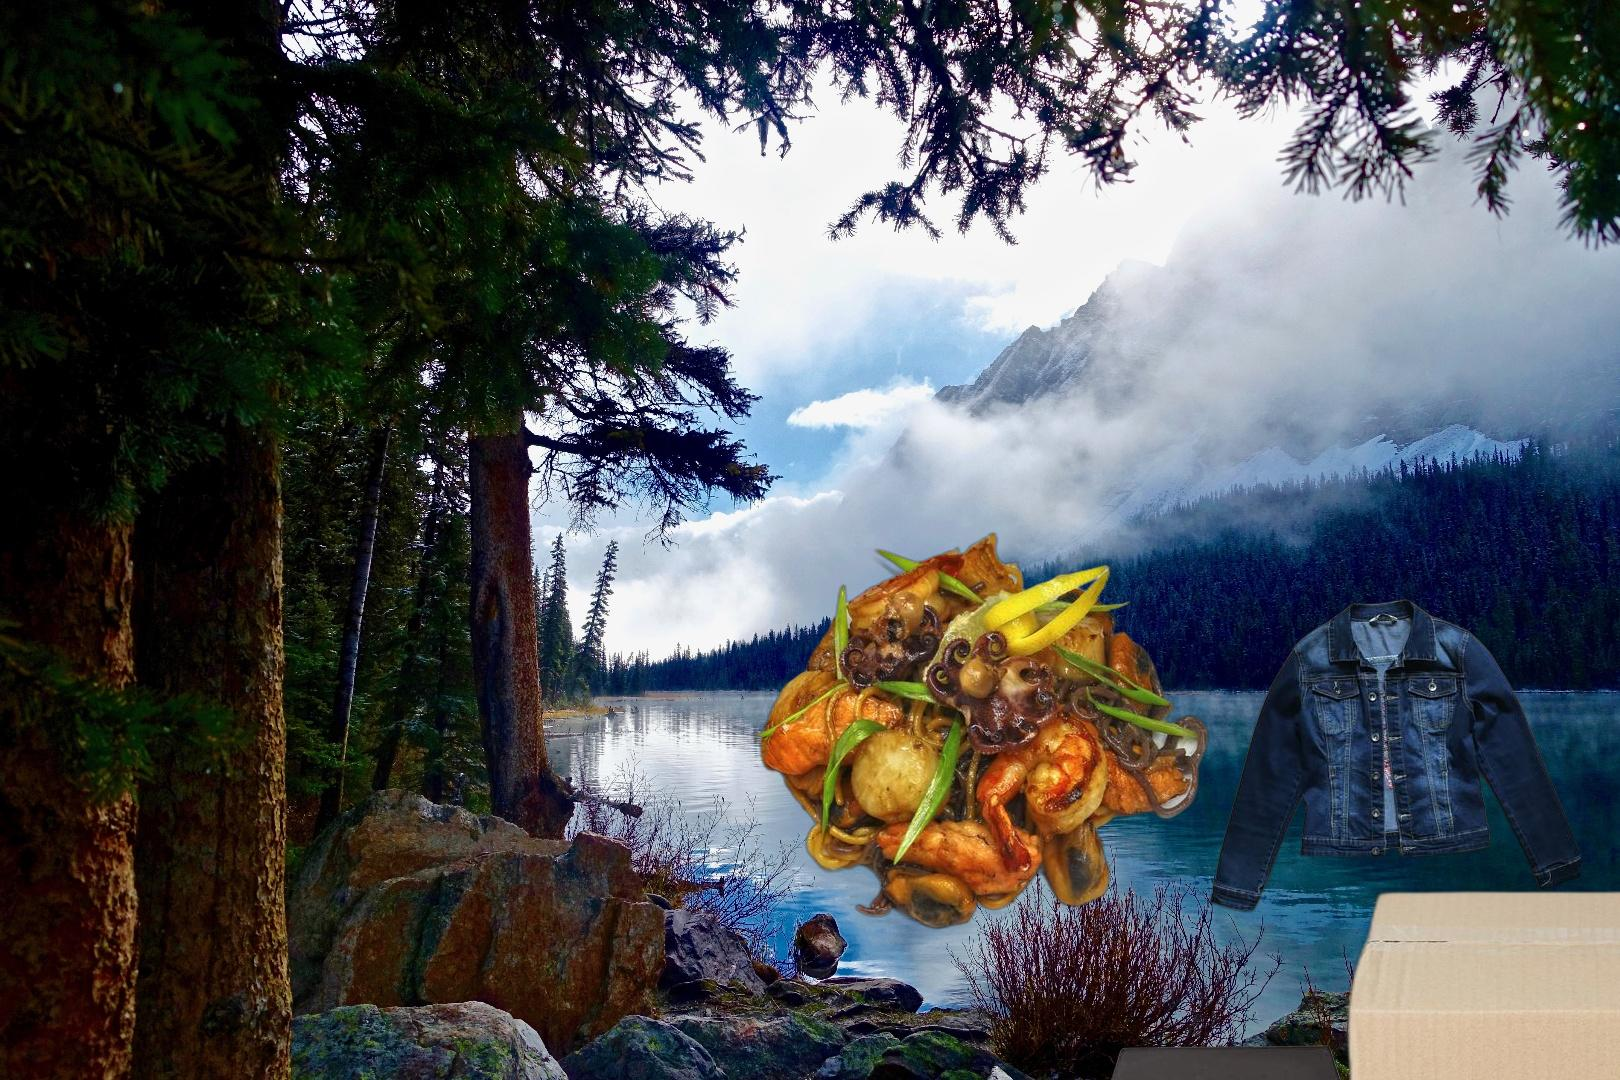biological: (749, 529, 1214, 932)
clothes: (1207, 595, 1581, 916)
trashbox-cardboard: (1342, 881, 1620, 1080), (1068, 1045, 1389, 1080)
